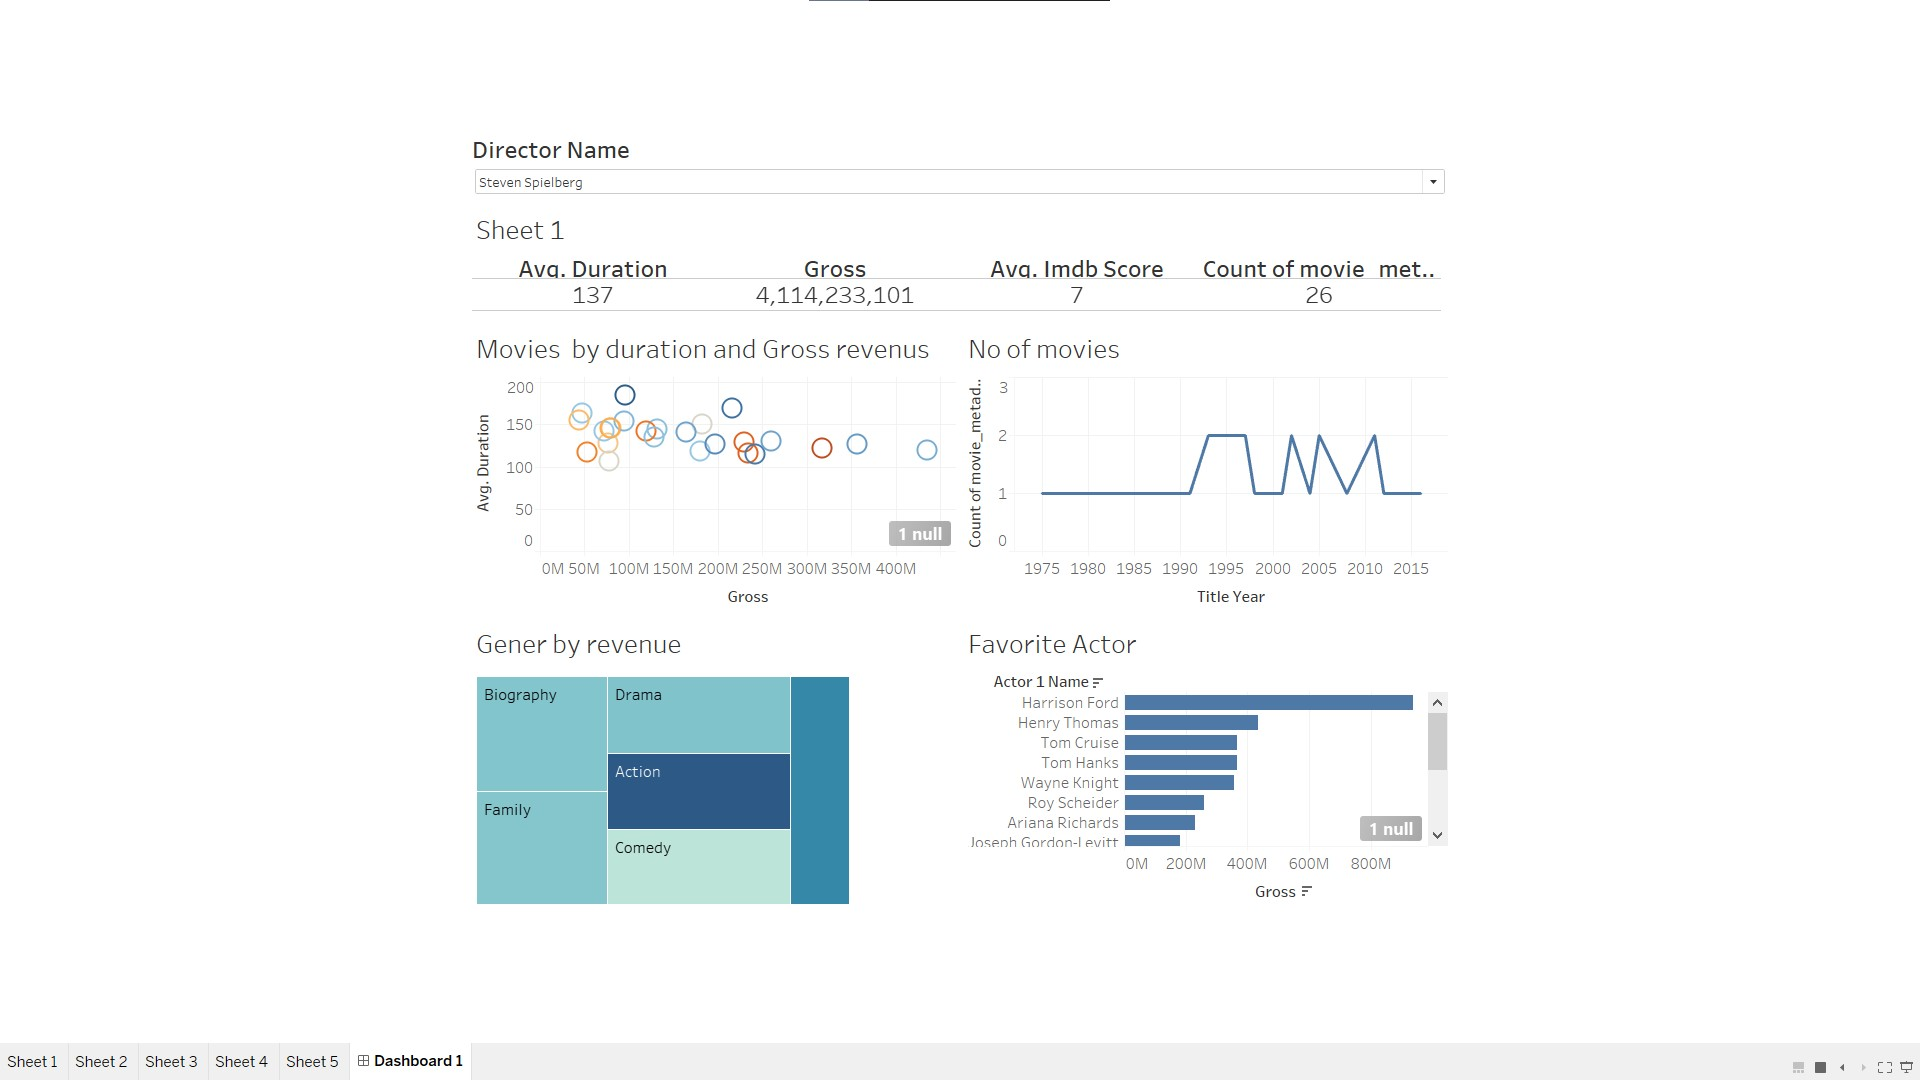

The dashboard page shown, as its layout file describes it:
{"tool":"tableau","page":{"name":"Dashboard 1","canvas":[1000,800],"ordinal":0},"visuals":[{"type":"worksheet","box":[0,0,1000,800]},{"type":"worksheet","box":[8,8,984,75]},{"type":"worksheet","title":"Sheet 1","mark":"Automatic","param":"[federated.0bgs68807mutm917qieyp0d4nngp].[none:director_name:nk]","box":[8,8,984,72]},{"type":"worksheet","param":"horz","box":[8,83,984,709]},{"type":"worksheet","box":[8,83,984,709]},{"type":"worksheet","title":"Sheet 1","mark":"Automatic","box":[8,83,984,119.4]},{"type":"worksheet","title":"Sheet 2","mark":"Automatic","rows":["duration"],"cols":["gross"],"box":[8,202.4,492,294.8]},{"type":"worksheet","title":"Sheet 3","mark":"Automatic","rows":["movie_metadata.csv_549DE73A58B44EC99270D58BB07438D8"],"cols":["title_year"],"box":[500,202.4,492,294.8]},{"type":"worksheet","title":"Sheet 4","mark":"Automatic","box":[8,497.2,492,294.8]},{"type":"worksheet","title":"Sheet 5","mark":"Automatic","rows":["actor_1_name"],"cols":["gross"],"box":[500,497.2,492,294.8]}]}

Visuals, with their boxes on the page's 1000x800 design canvas (x1, y1, x2, y2). These are canvas units, not pixel positions in the 1920x1080 screenshot, which may show the page scaled, cropped or inside an application window:
worksheet: (x1=0, y1=0, x2=1000, y2=800)
worksheet: (x1=8, y1=8, x2=992, y2=83)
"Sheet 1" worksheet: (x1=8, y1=8, x2=992, y2=80)
worksheet: (x1=8, y1=83, x2=992, y2=792)
worksheet: (x1=8, y1=83, x2=992, y2=792)
"Sheet 1" worksheet: (x1=8, y1=83, x2=992, y2=202)
"Sheet 2" worksheet: (x1=8, y1=202, x2=500, y2=497)
"Sheet 3" worksheet: (x1=500, y1=202, x2=992, y2=497)
"Sheet 4" worksheet: (x1=8, y1=497, x2=500, y2=792)
"Sheet 5" worksheet: (x1=500, y1=497, x2=992, y2=792)
